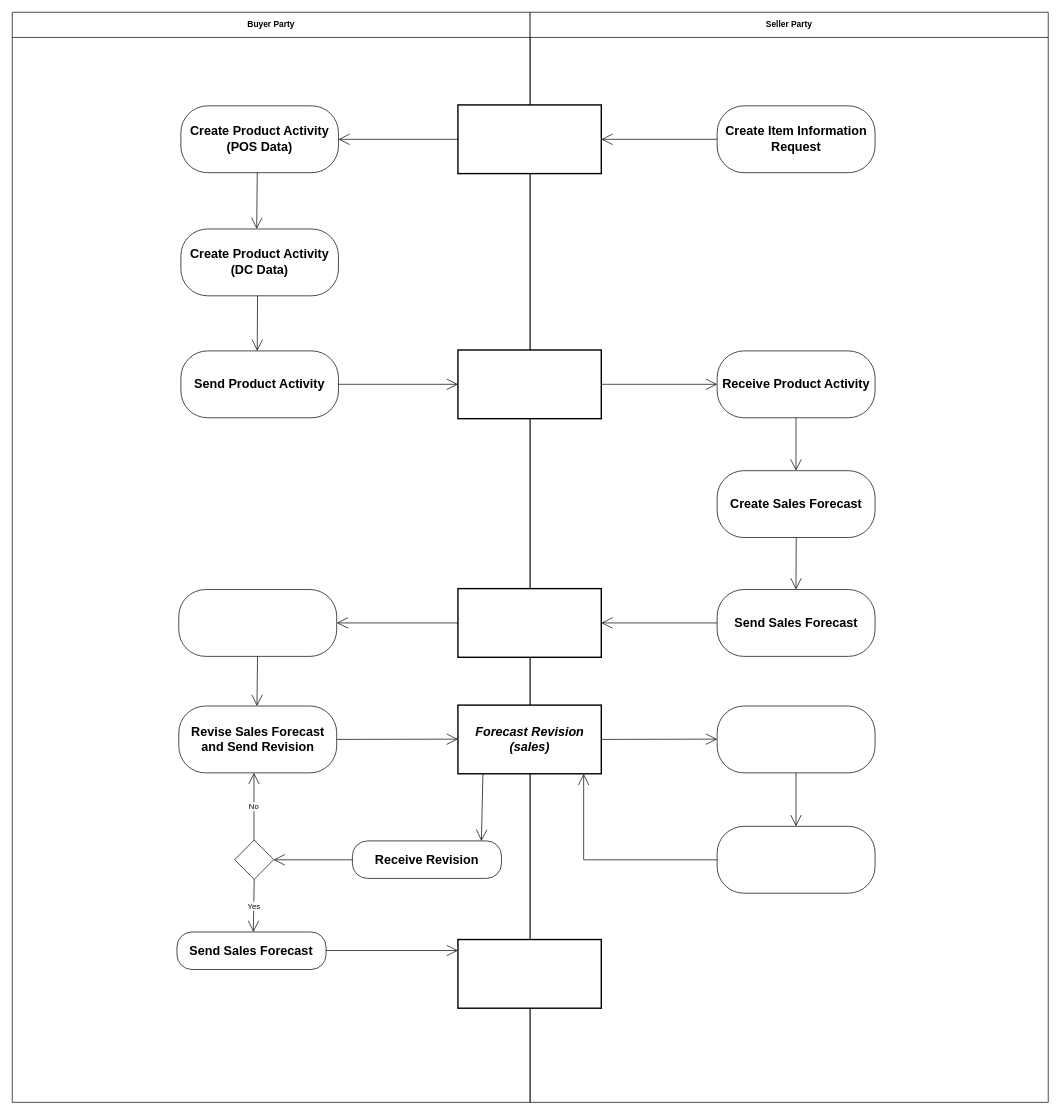
Some shapes in this 1061 by 1115 pixel diagram are drawn without their labels. Here are the shapes that lost their labels. From the top down, the centre of each, then its label:
point (529, 139): Item Information Request
point (529, 384): Product Activity
point (257, 622): Receive Sales Forecast
point (529, 623): Forecast (sales)
point (795, 739): Receive Sales Forecast Revision
point (795, 859): Revise and Resend Revision
point (529, 973): Forecast (sales - positive response)
